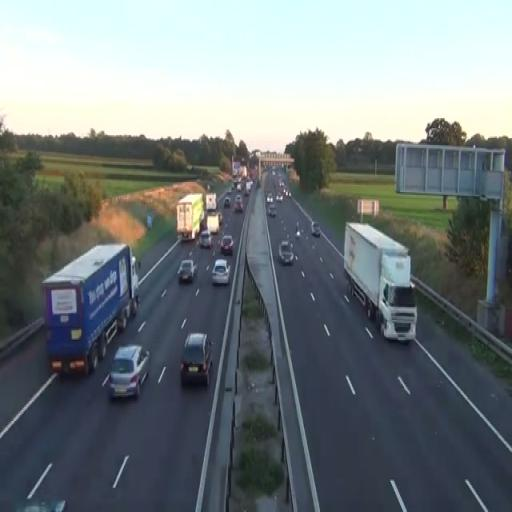Car: (107, 344, 150, 400), (180, 332, 213, 388), (212, 258, 230, 285), (178, 259, 196, 284), (278, 239, 294, 264), (206, 210, 220, 234), (220, 234, 234, 255), (199, 230, 212, 249)
Truck: (42, 242, 140, 378), (343, 221, 418, 344), (176, 193, 204, 241)
